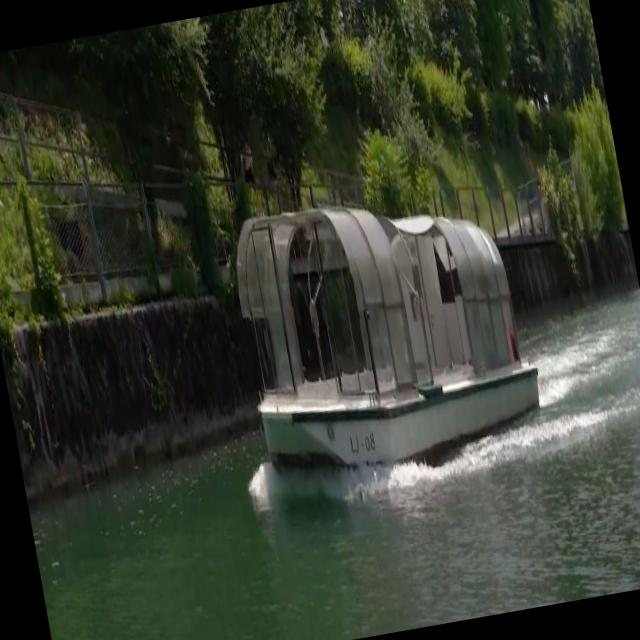boat: (229, 175, 545, 470)
